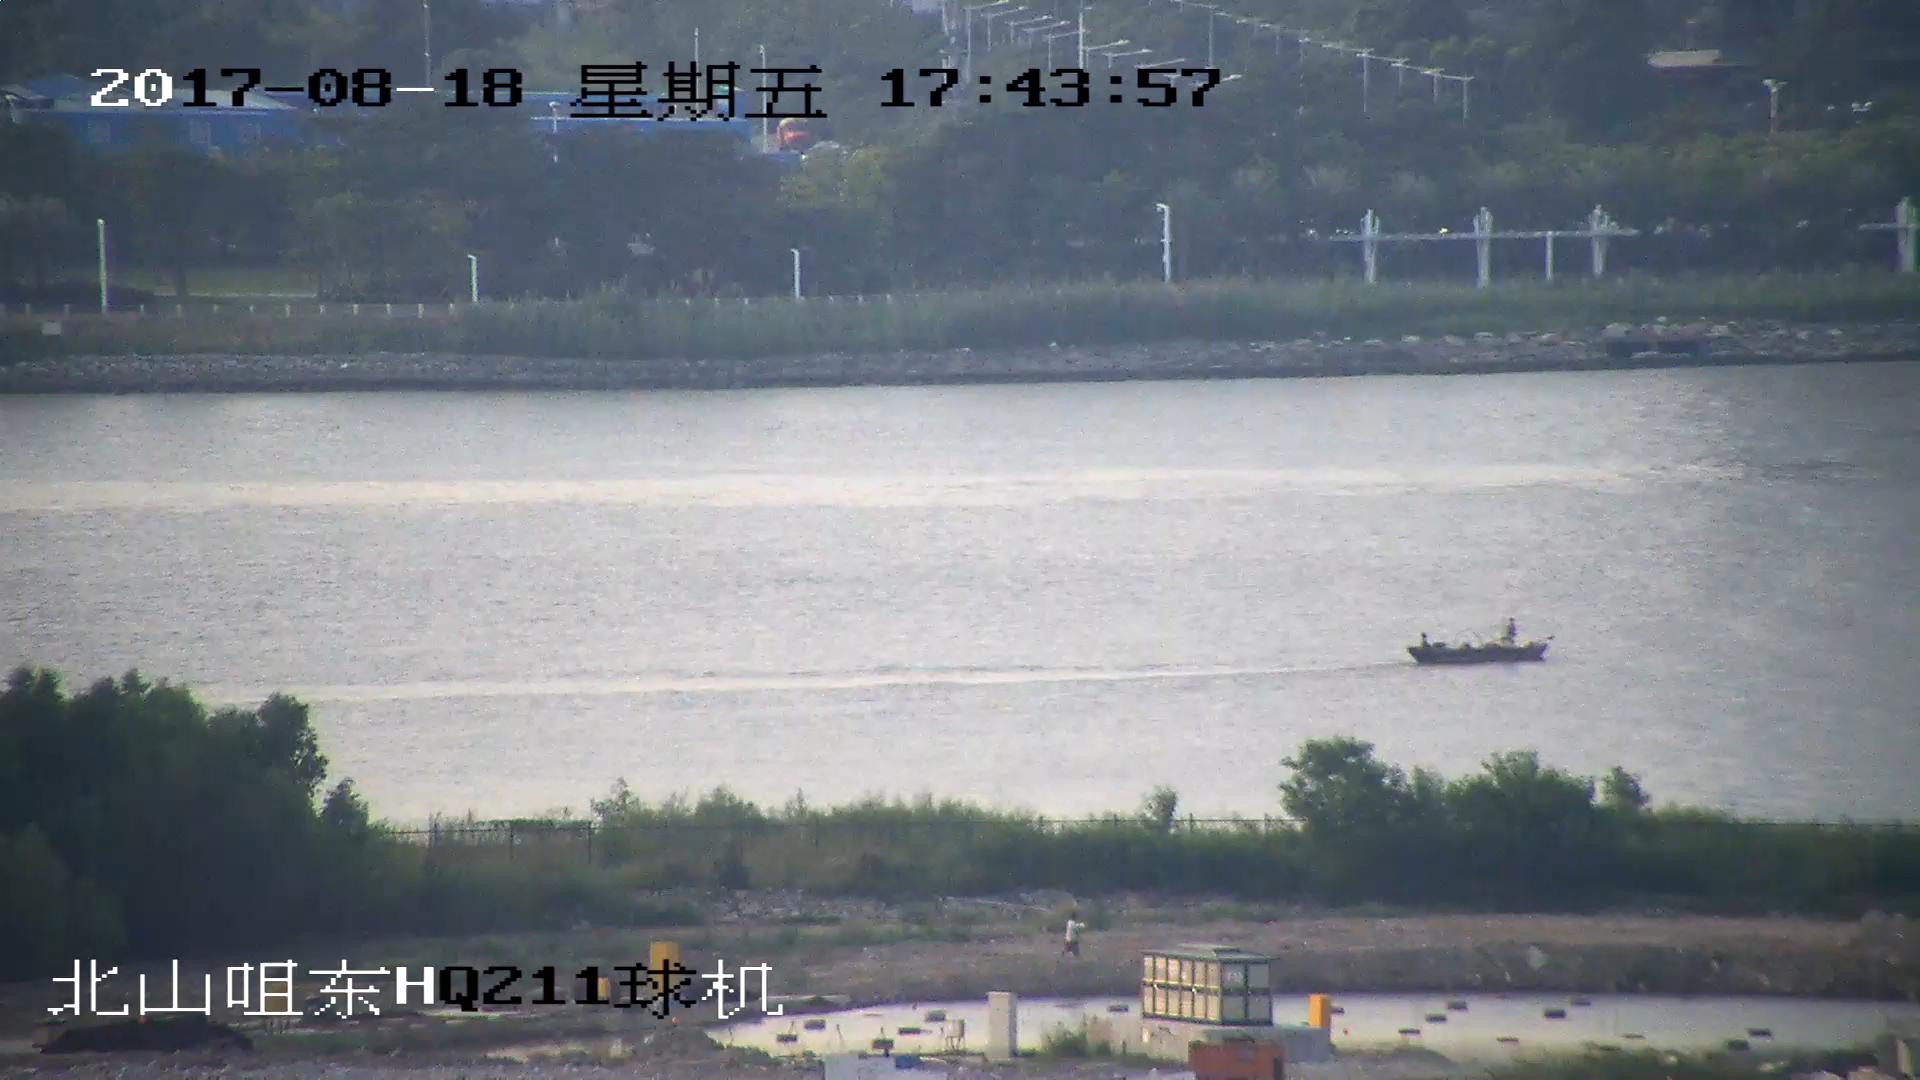fishing boat: (1412, 624, 1547, 663)
